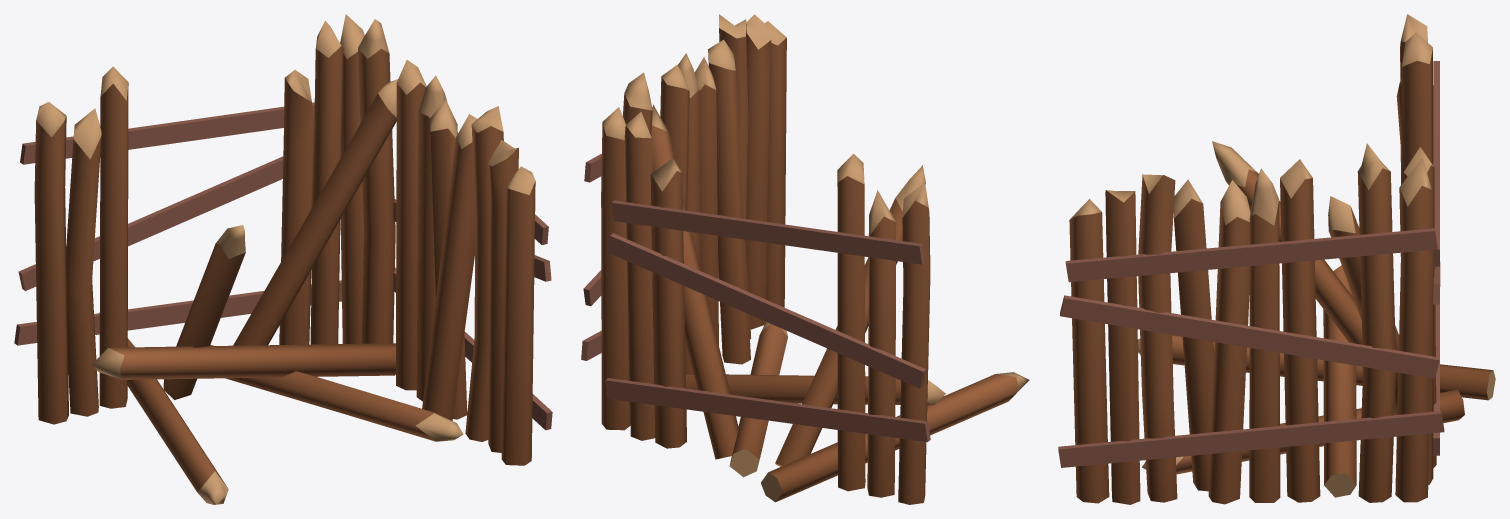
Rendered from Fence_WoodC_K.fbx.
3 views of the same model, side by side, from view 1: azimuth 30°, elevation 25°; view 2: azimuth 150°, elevation 25°; view 3: azimuth 270°, elevation 25° (orthographic). The views are drawn at different scales.
Parts seen in each view (by area): view 1: Fence_WoodC_K; view 2: Fence_WoodC_K; view 3: Fence_WoodC_K.
Part boxes in pixels (bbox=[...]): Fence_WoodC_K: bbox=[14, 14, 552, 504]; Fence_WoodC_K: bbox=[581, 14, 1029, 504]; Fence_WoodC_K: bbox=[1058, 14, 1495, 504].
Size of the model in its own units: 598 by 574 by 634.
